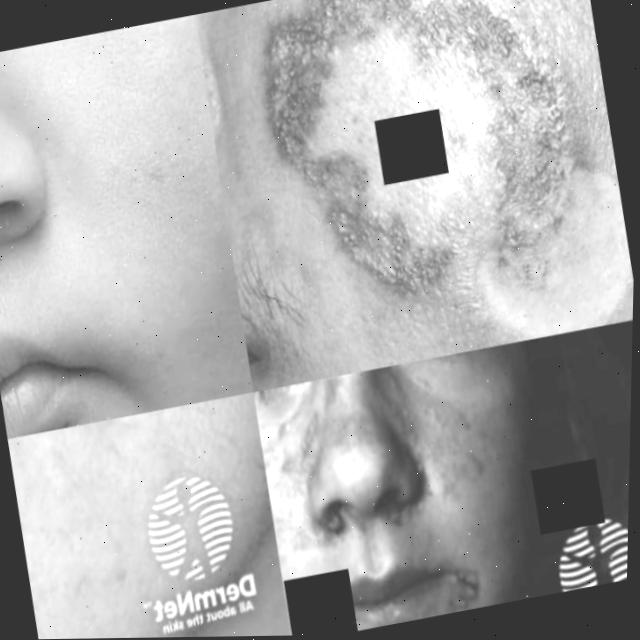lupus-detected: (185, 0, 640, 392), (317, 339, 564, 587), (247, 367, 420, 619), (5, 391, 266, 515), (272, 497, 504, 636)
